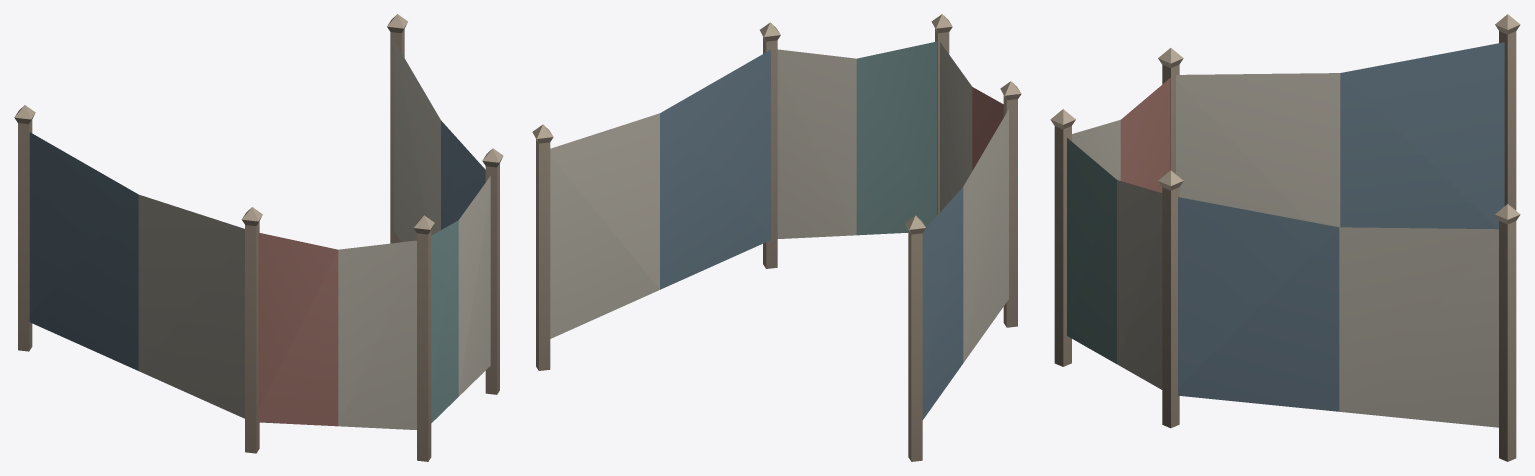
File: windbreak.lod1.glb
3 renders of one model, left to right at view 1: azimuth 30°, elevation 25°; view 2: azimuth 150°, elevation 25°; view 3: azimuth 270°, elevation 25°, orthographic. The views are drawn at different scales.
Size of the model in its own units: 2.03 by 1.2 by 2.01.
